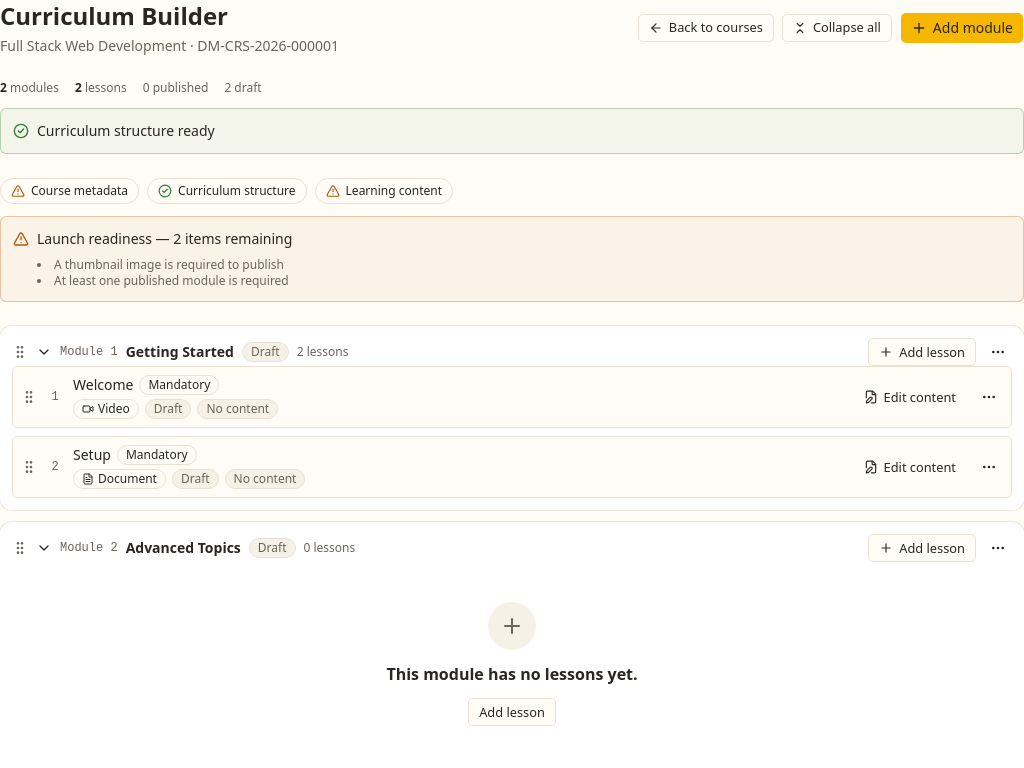
Test: CourseCurriculumPage › collapses and expands a module
Expected: the text "Welcome" is shown, left=73, top=375, right=133, bottom=395
Click the button with aria-label "Collapse Getting Started": click(85, 352) left=36, top=342, right=860, bottom=362
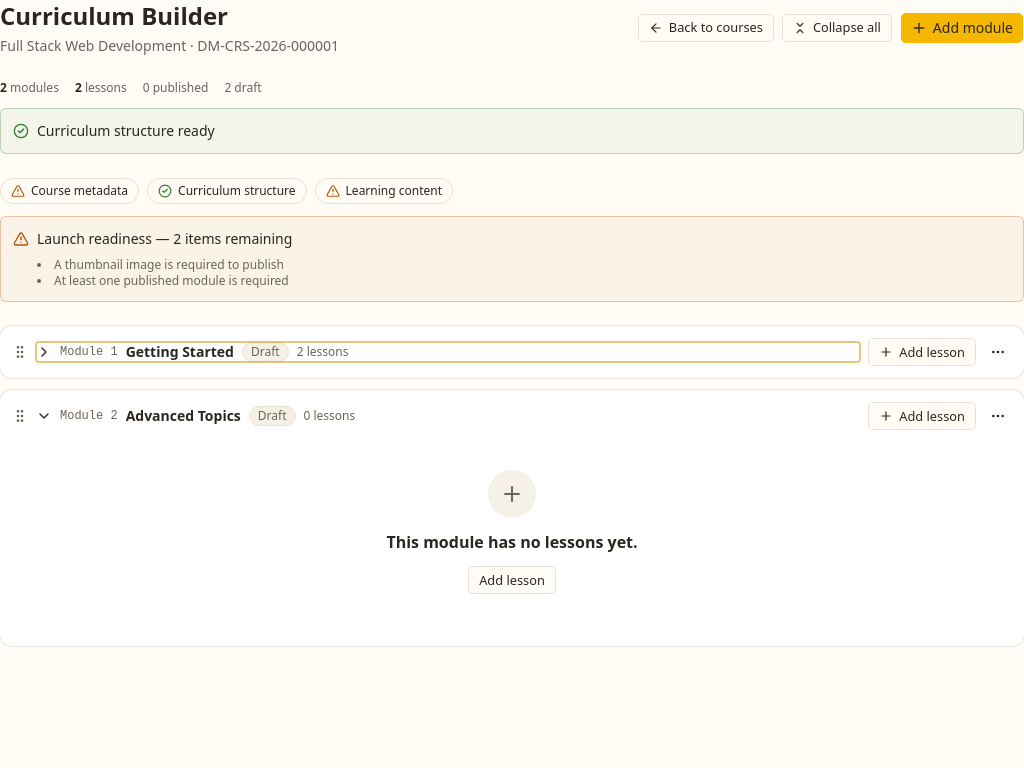
Expected: the text "Welcome" is gone
Click the button with aria-label "Expand Getting Started": click(85, 352) left=36, top=342, right=860, bottom=362
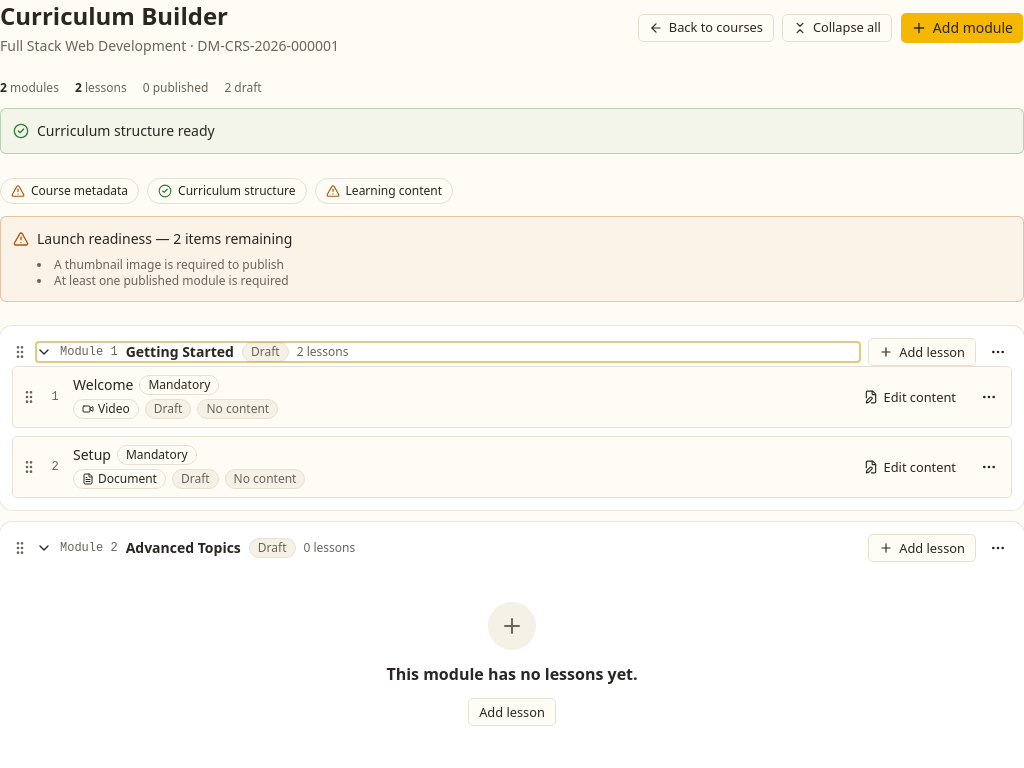
Expected: the text "Welcome" is shown, left=73, top=375, right=133, bottom=395
